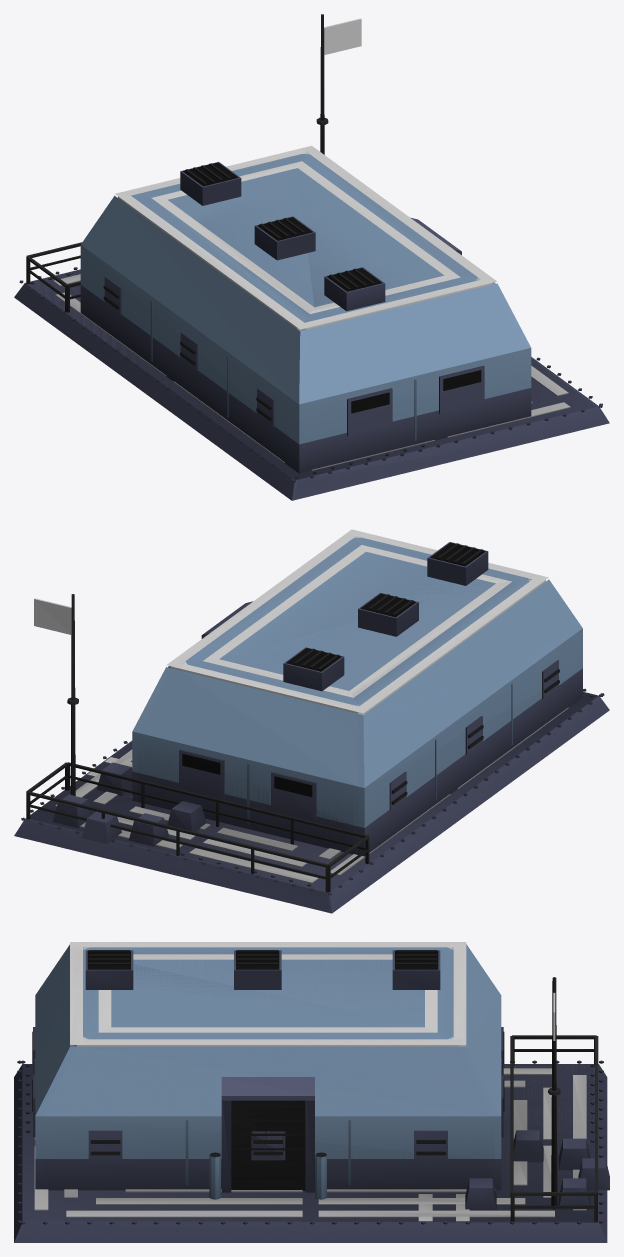
File: veyran_barracks.glb
3 renders of one model, top to bottom at view 1: azimuth 30°, elevation 25°; view 2: azimuth 150°, elevation 25°; view 3: azimuth 270°, elevation 25°, orthographic. The views are drawn at different scales.
Parts seen in each view (by area): view 1: body (×3); view 2: body (×3); view 3: body (×3).
Boxes of the visible parts, left/top/right/bottom form: body (×3): left=14, top=14, right=609, bottom=500; body (×3): left=14, top=529, right=609, bottom=913; body (×3): left=14, top=942, right=609, bottom=1242.
Size of the model in its own units: 7.5 by 5.15 by 11.25.
